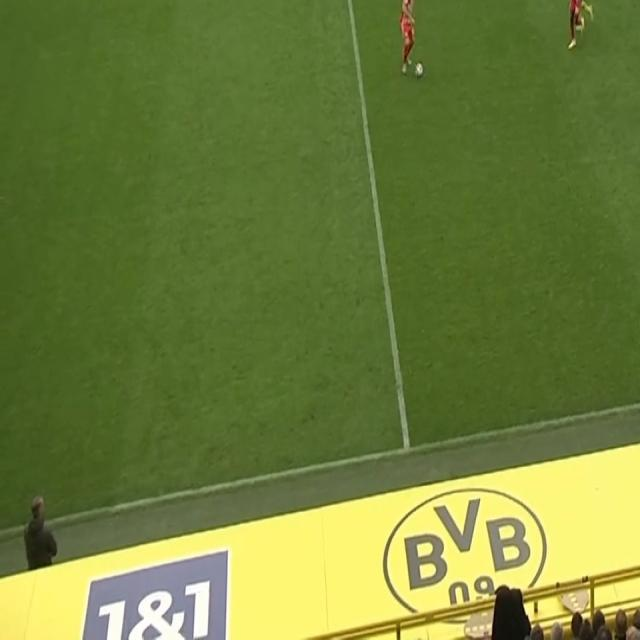ball: (413, 60, 424, 78)
